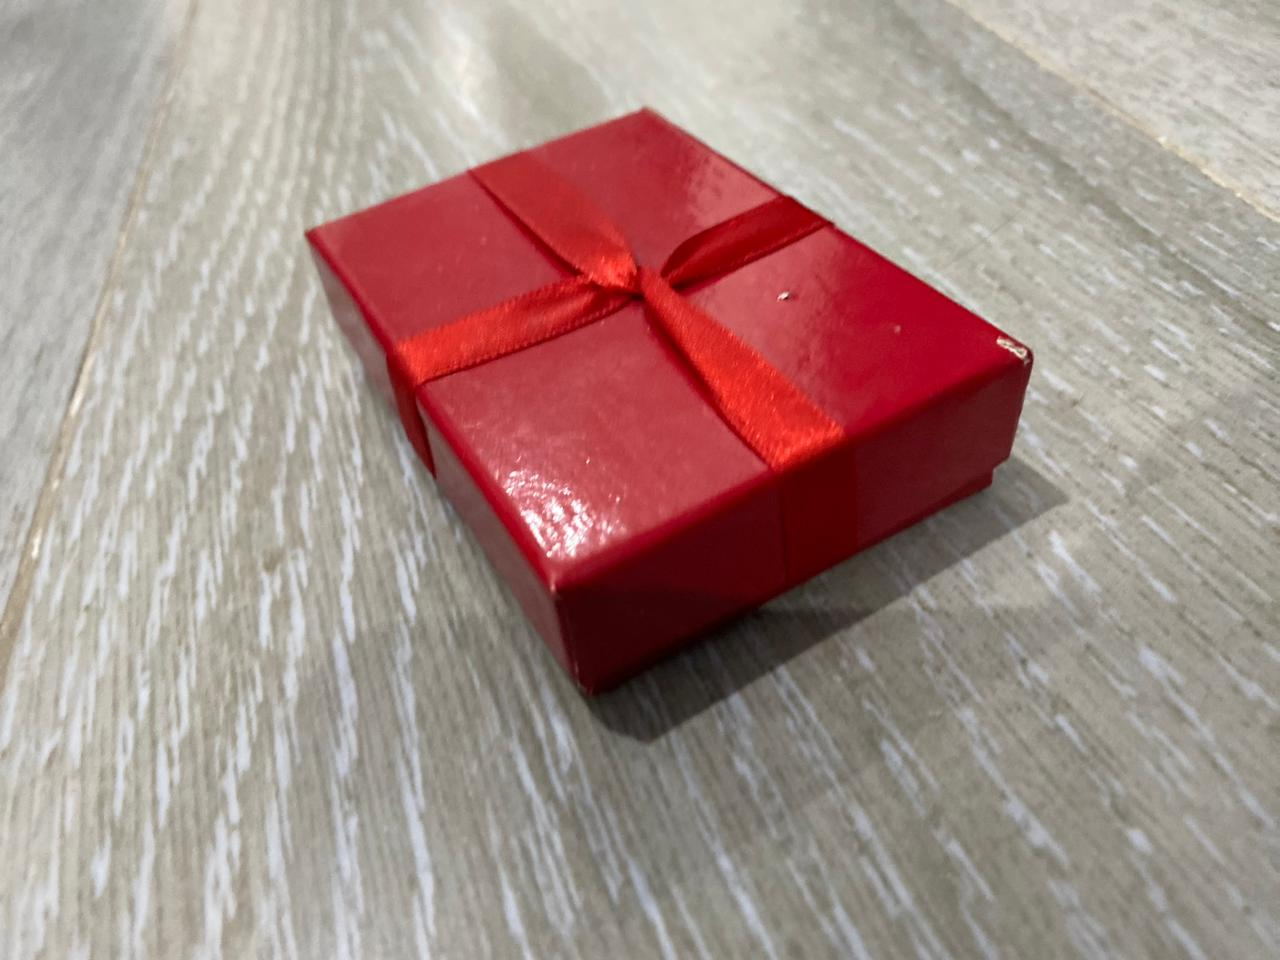Black Box: (303, 107, 1043, 710)
